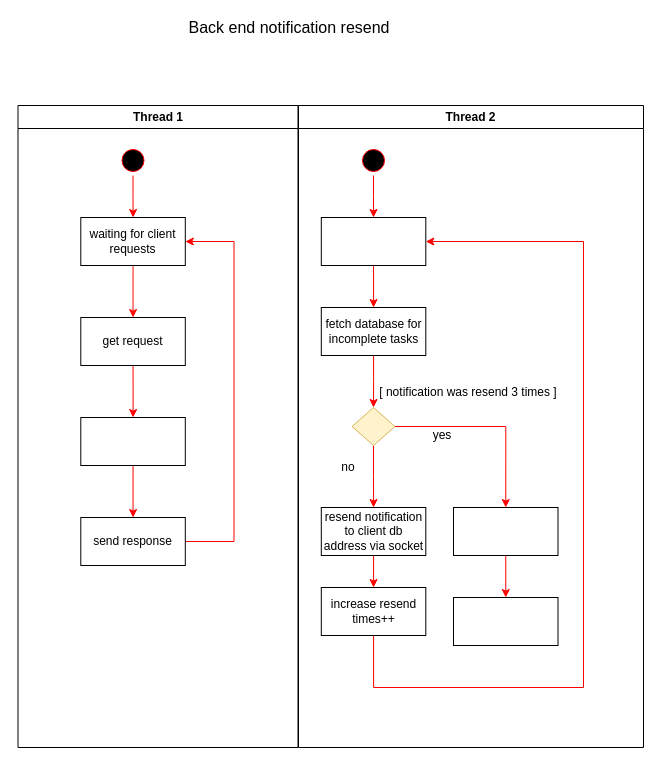
Image size: 661x765. Some labels were removed from this diagram. The shapes that lost their labels are listed below. From the top down, each one's centre as x and y in pixels, then its label:
At (x=373, y=241): "wait for a time interval".
At (x=132, y=441): "process request".
At (x=505, y=531): "remove task from database".
At (x=505, y=621): "notify task issuer the process has failed".
